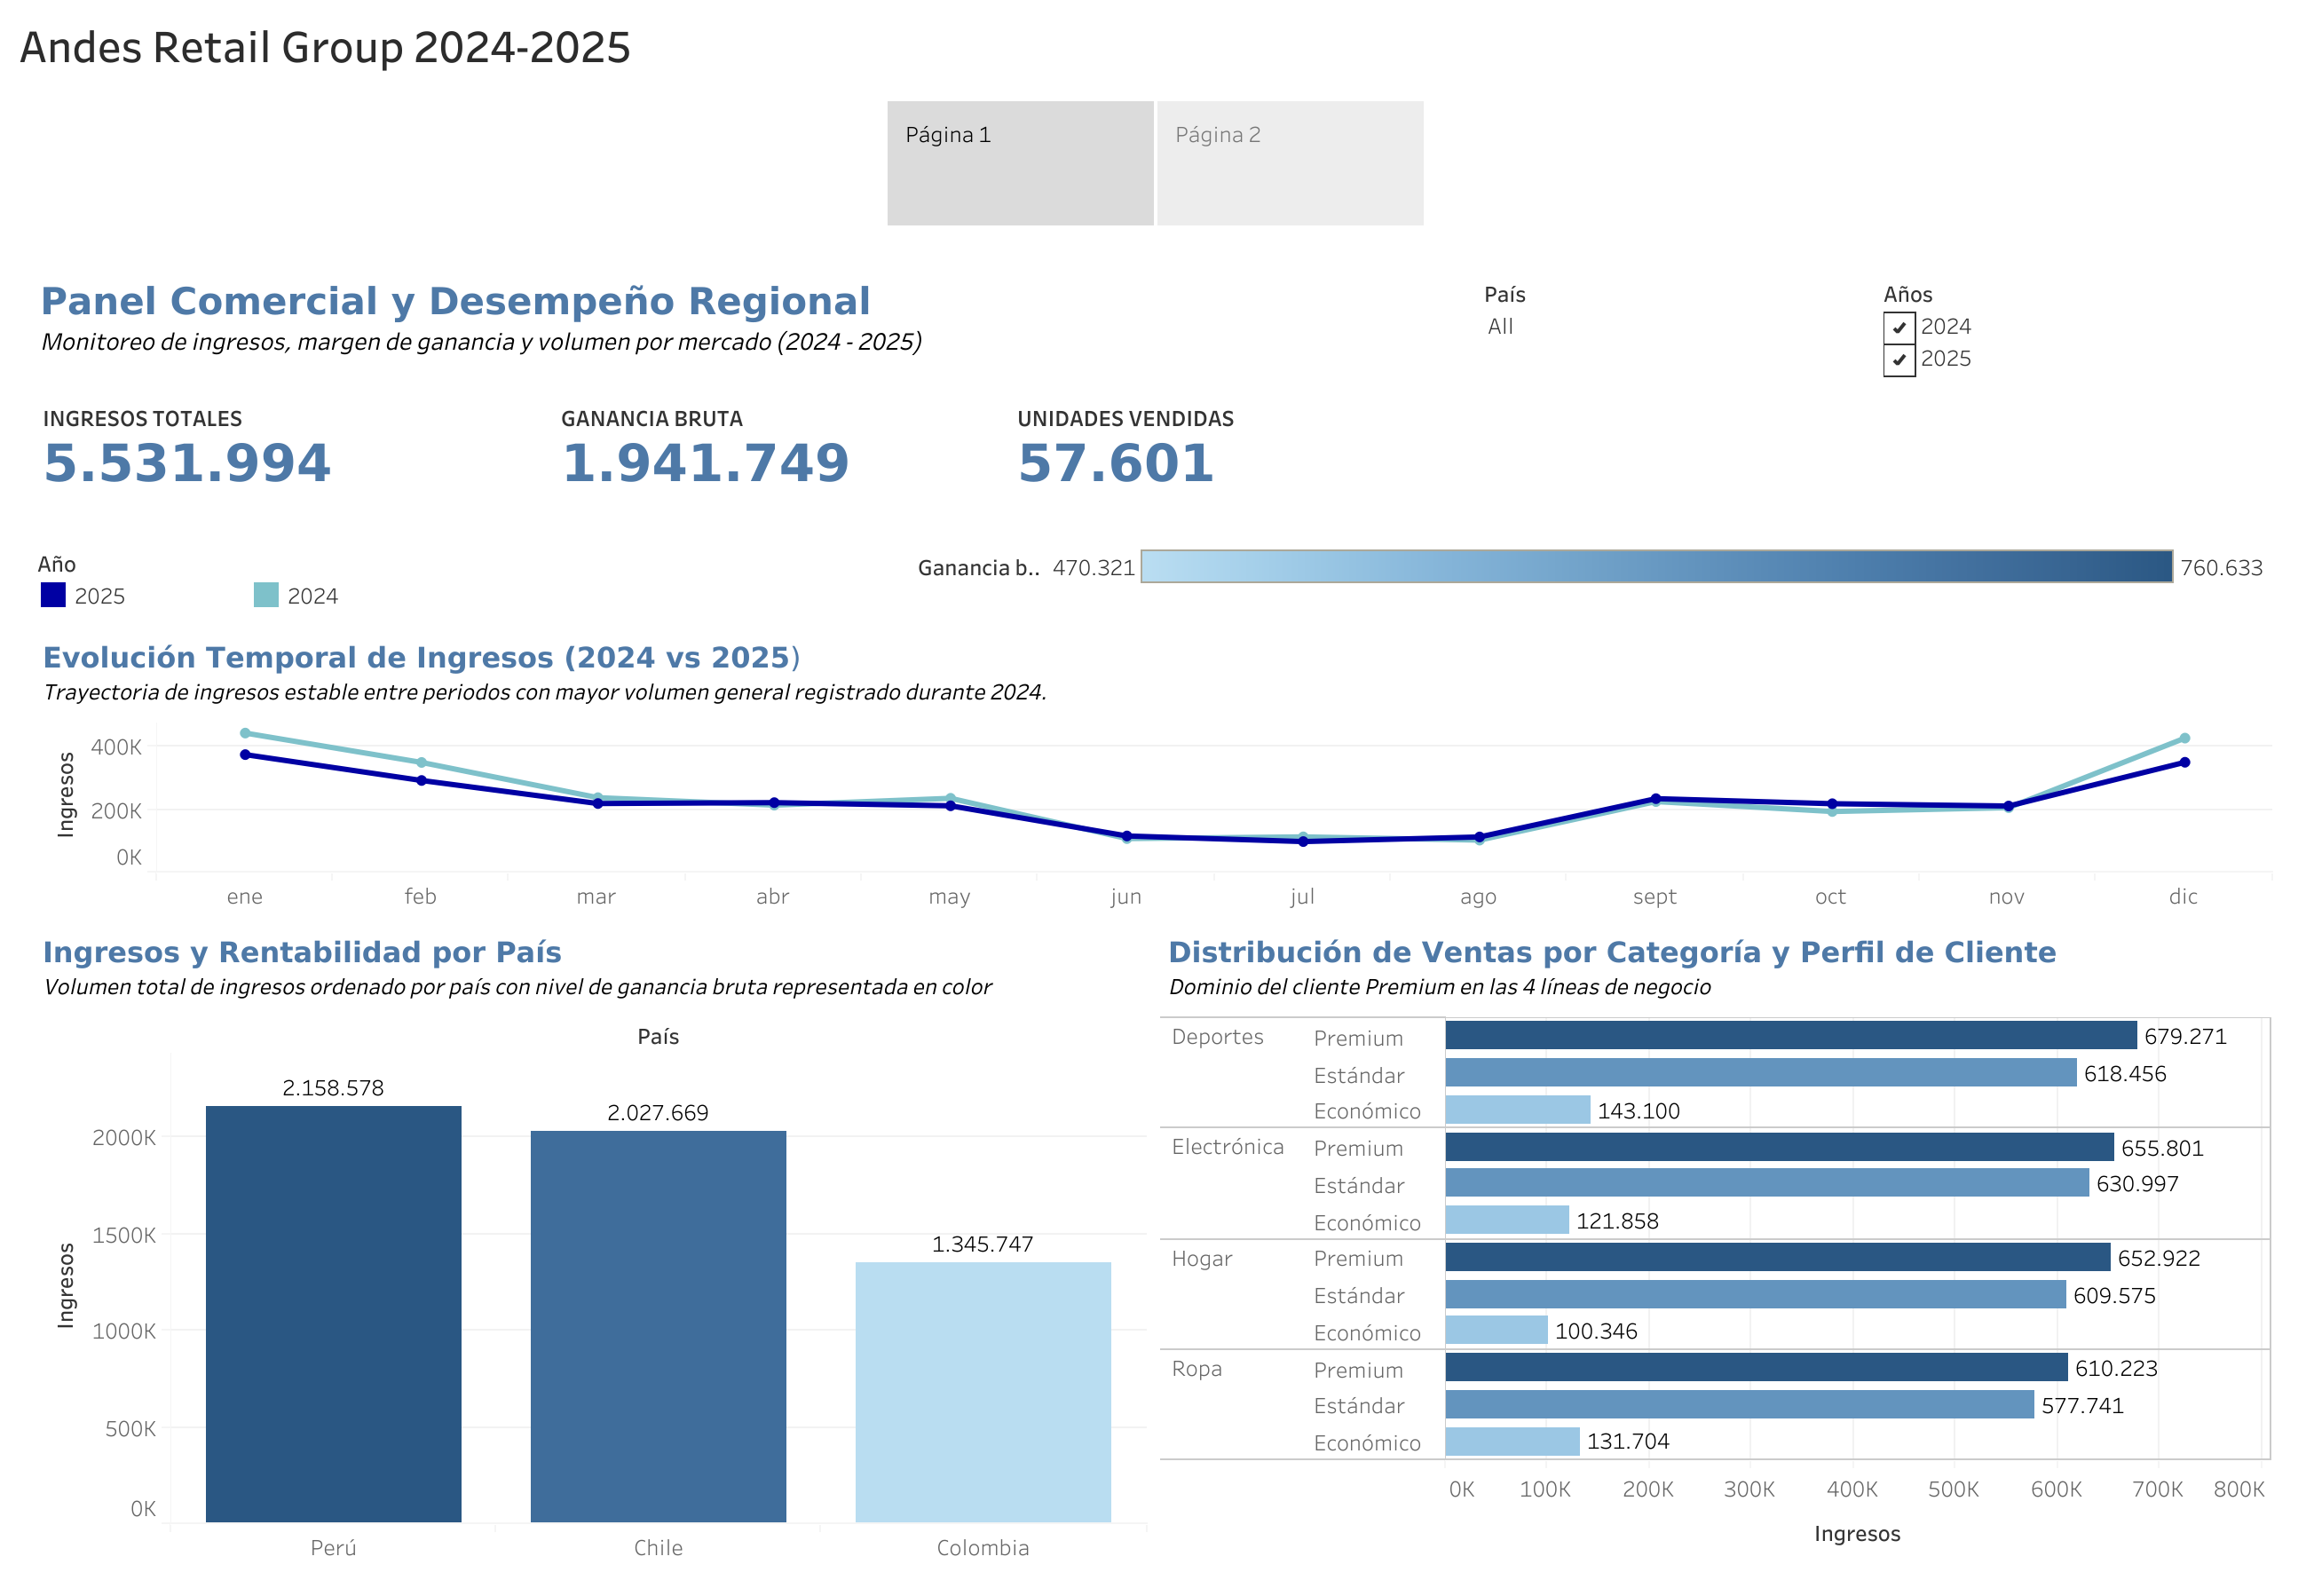

This screenshot's page, from the dashboard's own definition file:
{"tool":"tableau","page":{"name":"Dashboard 1","canvas":[1000,1000],"units":"permille","ordinal":0},"visuals":[{"type":"text","box":[6.4,10.8,635.4,74.6]},{"type":"filter","title":"Evolucion_Mensual","param":"[federated.0gvunlb00i6xsq194bgip024hn12].[none:País:nk]","box":[641.8,10.8,175.5,202.2]},{"type":"filter","title":"Evolucion_Mensual","param":"[federated.0gvunlb00i6xsq194bgip024hn12].[yr:Fecha_Pedido:ok]","box":[817.3,10.8,176.4,202.2]},{"type":"worksheet","title":"KPI_Ingresos","mark":"Automatic","box":[6.4,85.5,227.1,127.5]},{"type":"worksheet","title":"KPI_Ganancia","mark":"Automatic","box":[233.5,85.5,200.2,127.5]},{"type":"worksheet","title":"KPI_Unidades","mark":"Automatic","box":[433.7,85.5,208.1,127.5]},{"type":"legend","title":"Evolucion_Mensual","param":"[federated.0gvunlb00i6xsq194bgip024hn12].[yr:Fecha_Pedido:ok]","box":[6.4,213,386.8,65.1]},{"type":"legend","title":"Ingresos_por_Pais","param":"[federated.0gvunlb00i6xsq194bgip024hn12].[sum:Calculation_0451174379675649:qk]","box":[393.2,213,600.5,65.1]},{"type":"worksheet","title":"Evolucion_Mensual","mark":"Automatic","rows":["Ingresos"],"cols":["Fecha_Pedido"],"box":[6.4,278.2,987.3,221.2]},{"type":"worksheet","title":"Ingresos_por_Pais","mark":"Automatic","rows":["Ingresos"],"cols":["País"],"box":[6.4,499.3,493.6,489.8]},{"type":"worksheet","title":"Ingresos_por_Segmento_Categoria","mark":"Automatic","rows":["Categoría_Producto","Segmento_Cliente"],"cols":["Ingresos"],"box":[500,499.3,493.7,489.8]}]}

Visuals, with their boxes on the dashboard's canvas, which has no fixed pixel size, in thousandths of its width and height (x1, y1, x2, y2). These are canvas units, not pixel positions in the 2306x1596 screenshot, which may show the page scaled, cropped or inside an application window:
text: 6 11 642 85
"Evolucion_Mensual" filter: 642 11 817 213
"Evolucion_Mensual" filter: 817 11 994 213
"KPI_Ingresos" worksheet: 6 86 234 213
"KPI_Ganancia" worksheet: 234 86 434 213
"KPI_Unidades" worksheet: 434 86 642 213
"Evolucion_Mensual" legend: 6 213 393 278
"Ingresos_por_Pais" legend: 393 213 994 278
"Evolucion_Mensual" worksheet: 6 278 994 499
"Ingresos_por_Pais" worksheet: 6 499 500 989
"Ingresos_por_Segmento_Categoria" worksheet: 500 499 994 989
